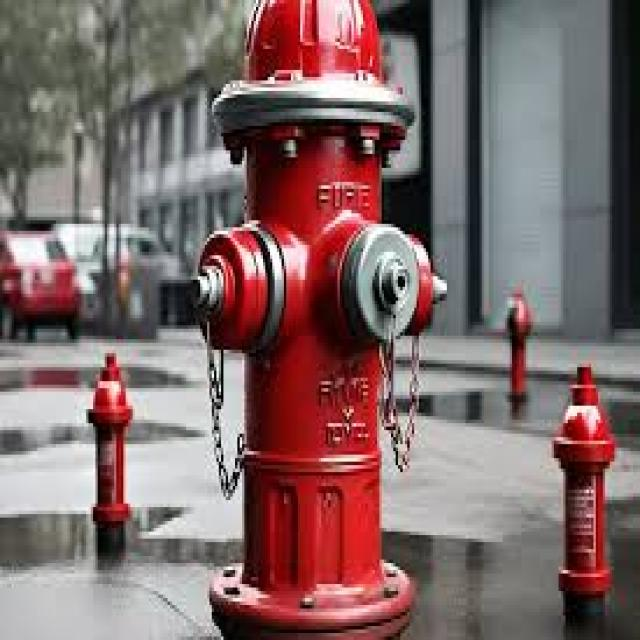fire_hydrant: (198, 3, 443, 616), (547, 364, 620, 611), (79, 348, 152, 544), (500, 290, 540, 434)
